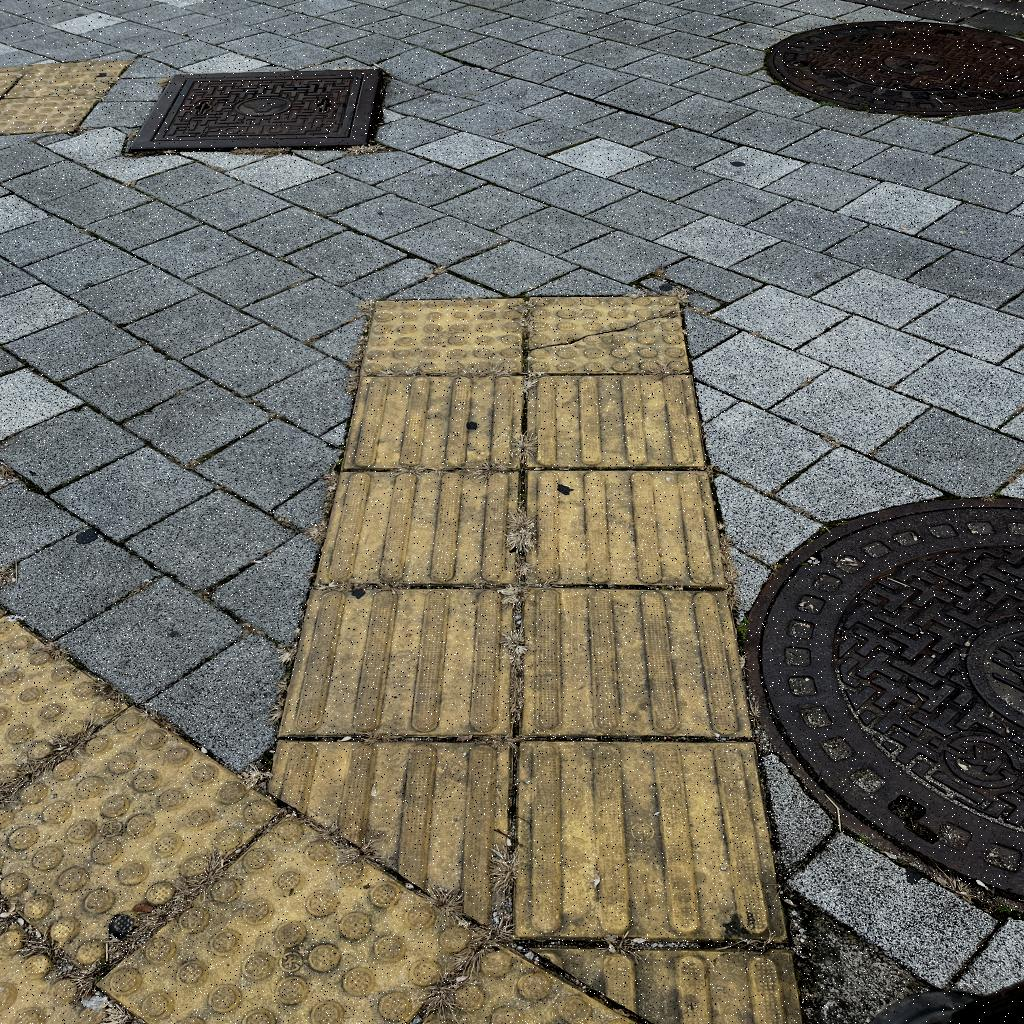Stop block broken: (528, 298, 689, 372)
Stop block normal: (360, 298, 524, 374)
Straight block normal: (524, 589, 749, 735), (311, 592, 513, 735), (527, 472, 715, 586), (332, 474, 515, 583), (535, 378, 691, 466), (356, 379, 517, 464)
